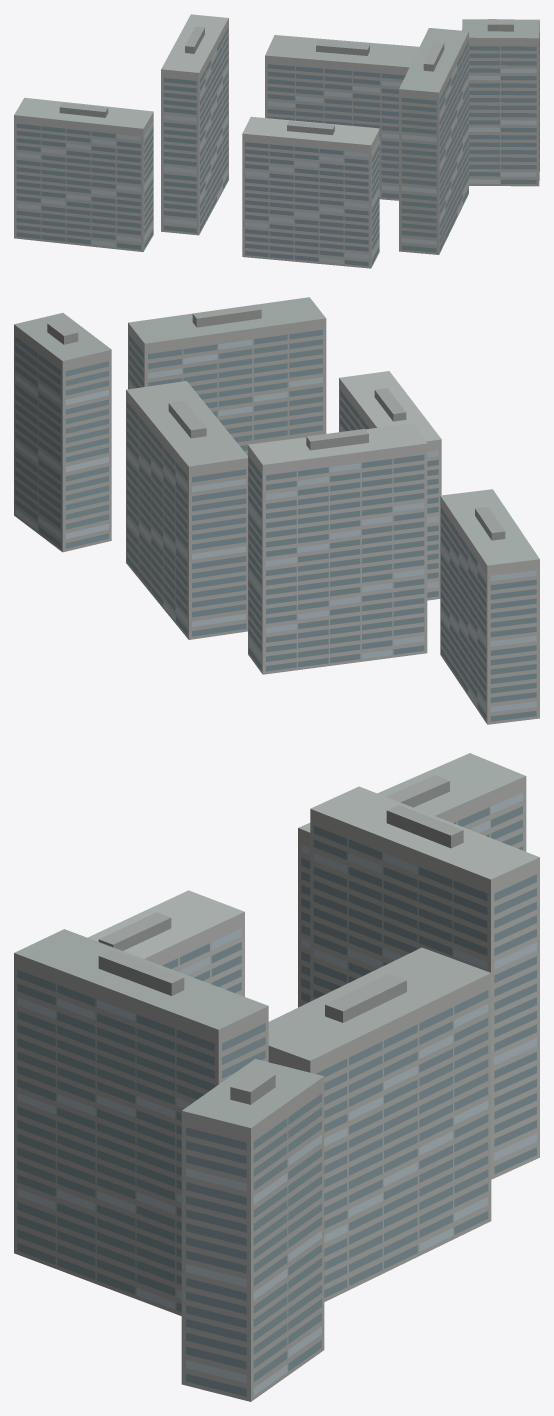
Rendered from apt-a15603203.glb.
3 renders of one model, top to bottom at view 1: azimuth 30°, elevation 25°; view 2: azimuth 150°, elevation 25°; view 3: azimuth 270°, elevation 25°, orthographic. The views are drawn at different scales.
Parts seen in each view (by area): view 1: apt-a15603203; view 2: apt-a15603203; view 3: apt-a15603203.
Part boxes in pixels (x1,y1,x2,y2): apt-a15603203: (14,14,539,268); apt-a15603203: (14,297,539,724); apt-a15603203: (14,753,539,1401).
Size of the model in its own units: 170 by 59 by 89.85.
